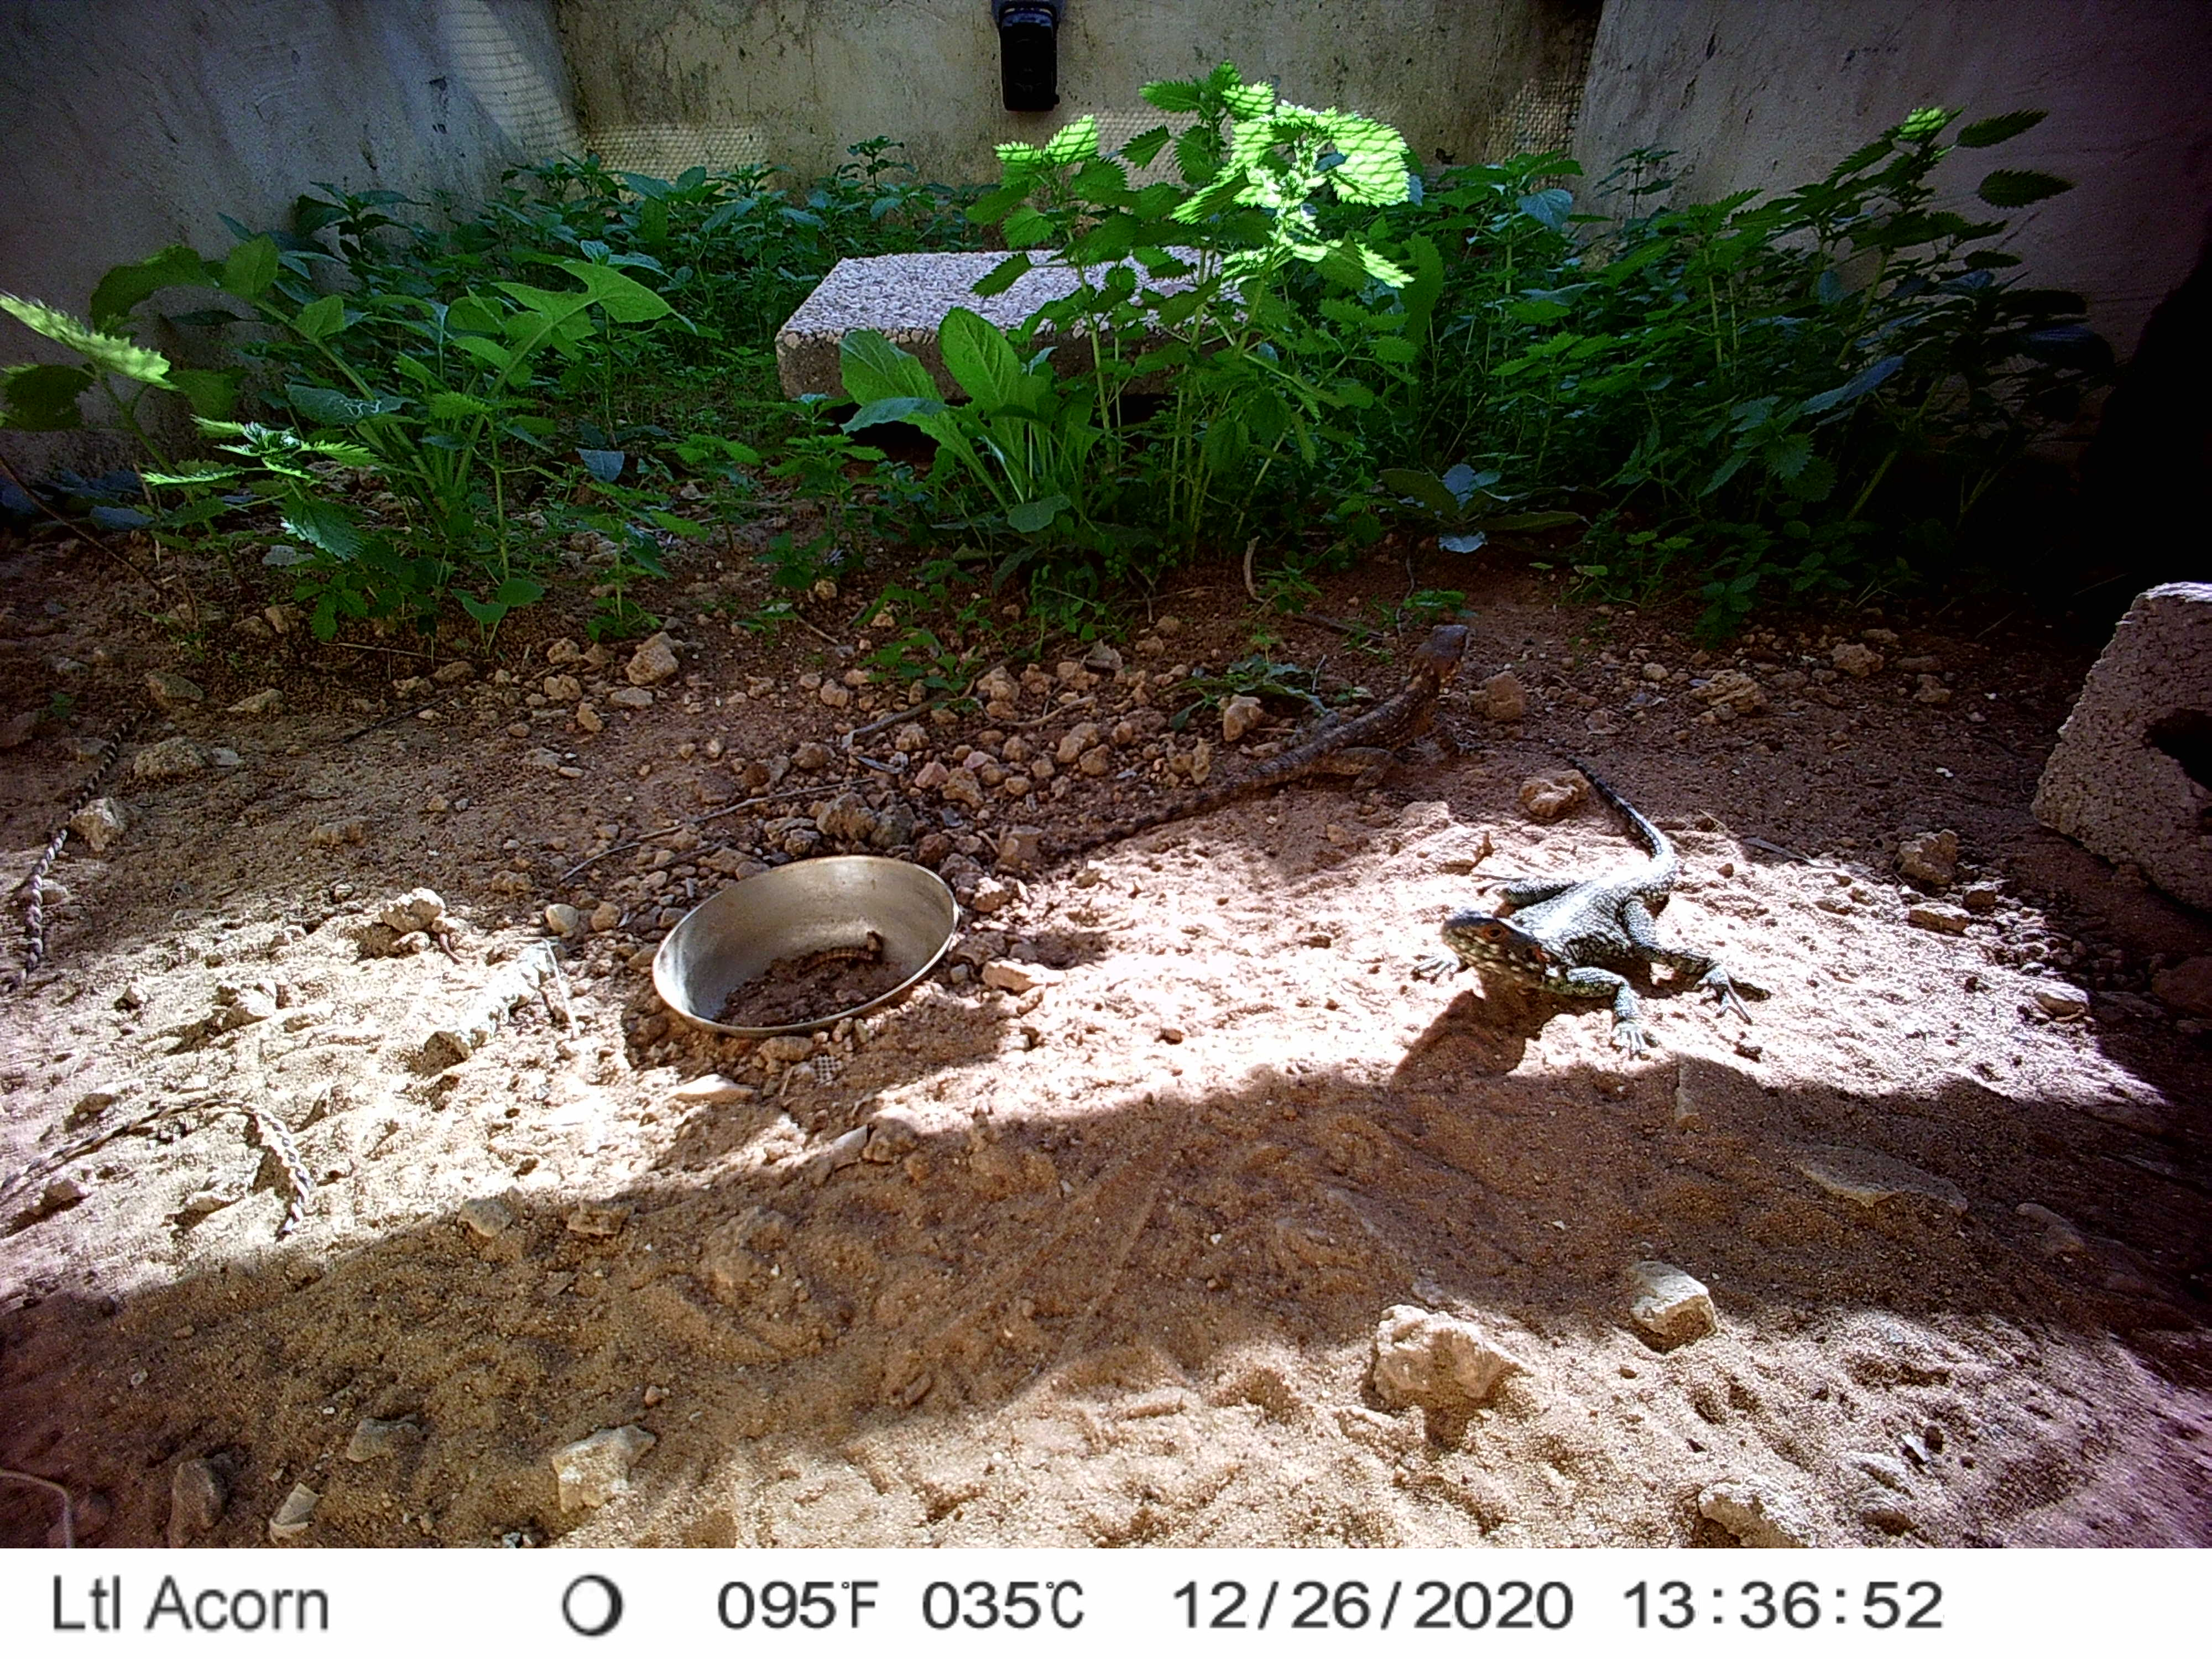lizard: (1413, 732, 1763, 1065), (1054, 620, 1475, 856)
